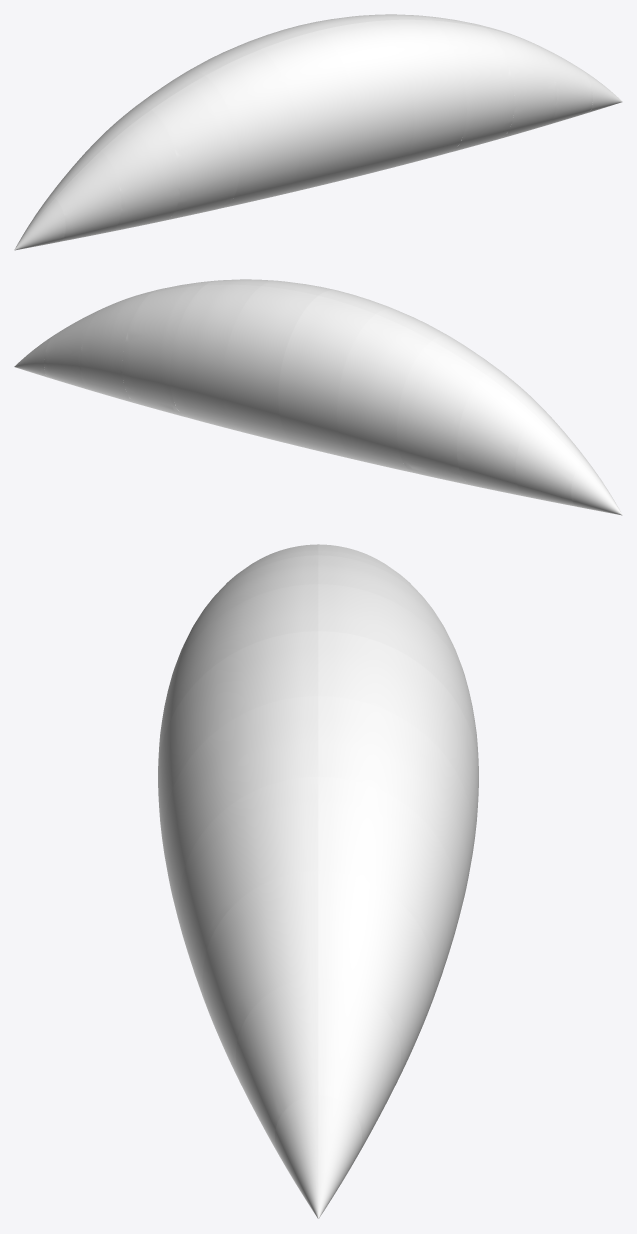
The model's file is cartel.obj.
The picture shows the model from 3 angles, top to bottom: view 1: azimuth 30°, elevation 25°; view 2: azimuth 150°, elevation 25°; view 3: azimuth 270°, elevation 25°; orthographic projection. The views are drawn at different scales.
Visible parts, largest first — view 1: Object034, Object032, Object036, Object030, Object038, Object028, Object040, Object042, Object026, Object044, Object024, Object016 (+7 smaller); view 2: Object012, Object014, Object010, Object016, Object008, Object018, Object006, Object004, Object020, Object002, Object022, Object030 (+7 smaller); view 3: Object006, Object040, Object008, Object038, Object004, Object042, Object010, Object036, Object002, Object044, Object012, Object034 (+6 smaller).
Part boxes in pixels (bbox=[...]): Object034: bbox=[261, 30, 358, 194]; Object032: bbox=[205, 49, 299, 207]; Object036: bbox=[319, 21, 414, 180]; Object030: bbox=[151, 76, 239, 220]; Object038: bbox=[376, 19, 466, 166]; Object028: bbox=[101, 110, 179, 231]; Object040: bbox=[432, 20, 514, 152]; Object042: bbox=[486, 28, 556, 138]; Object026: bbox=[55, 151, 121, 241]; Object044: bbox=[537, 45, 592, 124]; Object024: bbox=[14, 198, 65, 250]; Object016: bbox=[135, 71, 204, 109]; Object012: bbox=[278, 295, 375, 459]; Object014: bbox=[337, 314, 431, 472]; Object010: bbox=[222, 286, 317, 445]; Object016: bbox=[397, 341, 485, 485]; Object008: bbox=[170, 284, 260, 431]; Object018: bbox=[457, 375, 535, 496]; Object006: bbox=[122, 285, 204, 417]; Object004: bbox=[80, 293, 150, 403]; Object020: bbox=[515, 416, 581, 506]; Object002: bbox=[44, 310, 99, 389]; Object022: bbox=[571, 463, 622, 515]; Object030: bbox=[432, 336, 501, 374]; Object006: bbox=[318, 776, 458, 1008]; Object040: bbox=[178, 776, 318, 1008]; Object008: bbox=[318, 696, 473, 933]; Object038: bbox=[163, 696, 318, 933]; Object004: bbox=[318, 871, 434, 1085]; Object042: bbox=[202, 871, 318, 1085]; Object010: bbox=[318, 631, 478, 852]; Object036: bbox=[158, 631, 318, 852]; Object002: bbox=[318, 978, 401, 1154]; Object044: bbox=[235, 978, 318, 1154]; Object012: bbox=[318, 584, 478, 770]; Object034: bbox=[158, 584, 318, 770].
Bounding box in the file's own units: 458 × 105 × 105.
